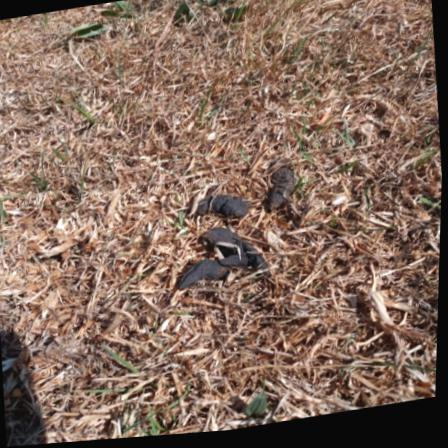dog-poop: (167, 222, 277, 291), (191, 174, 248, 230), (260, 161, 302, 222)
